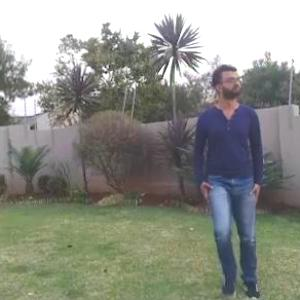follow: (189, 39, 271, 299)
